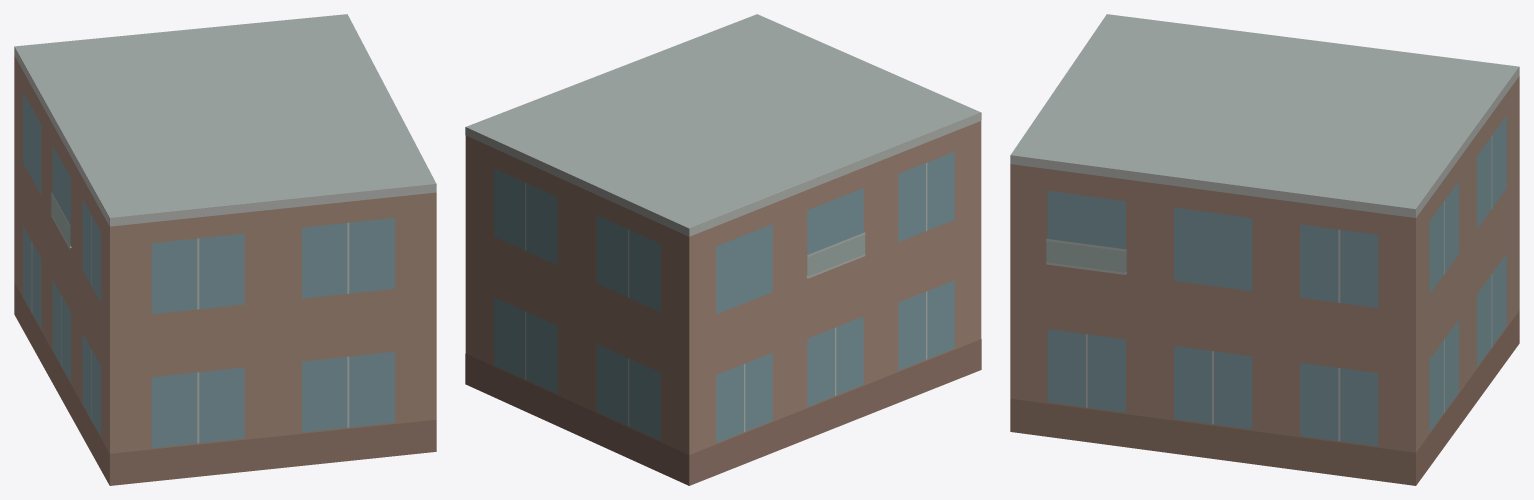
The model's file is survey-upis-32739626.glb.
The picture shows the model from 3 angles, left to right: view 1: azimuth 30°, elevation 25°; view 2: azimuth 150°, elevation 25°; view 3: azimuth 270°, elevation 25°; orthographic projection. The views are drawn at different scales.
Parts seen in each view (by area): view 1: survey-upis-32739626.tmp; view 2: survey-upis-32739626.tmp; view 3: survey-upis-32739626.tmp.
Boxes of the visible parts, <box> form: survey-upis-32739626.tmp: <box>14,14,436,485</box>; survey-upis-32739626.tmp: <box>465,14,981,485</box>; survey-upis-32739626.tmp: <box>1010,14,1519,485</box>.
Bounding box in the file's own units: 11.51 × 7.6 × 12.69.
